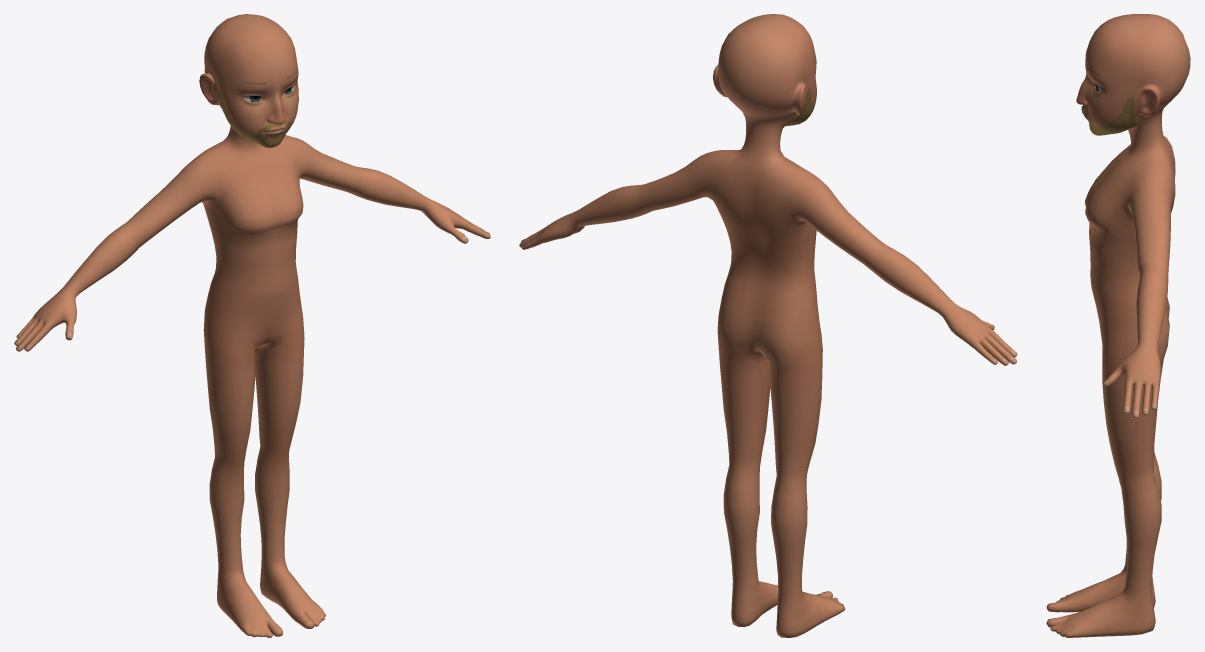
File: frame_0045.glb
3 renders of one model, left to right at view 1: azimuth 30°, elevation 25°; view 2: azimuth 150°, elevation 25°; view 3: azimuth 270°, elevation 25°, orthographic. The views are drawn at different scales.
Visible parts, largest first — view 1: frame_0045_head_geo; view 2: frame_0045_head_geo; view 3: frame_0045_head_geo.
Part boxes in pixels (<box>): frame_0045_head_geo: <box>14,14,490,637</box>; frame_0045_head_geo: <box>519,14,1017,637</box>; frame_0045_head_geo: <box>1046,14,1190,637</box>.
Bounding box in the file's own units: 1.28 × 1.5 × 0.3253.
3 materials, 3 textured.
